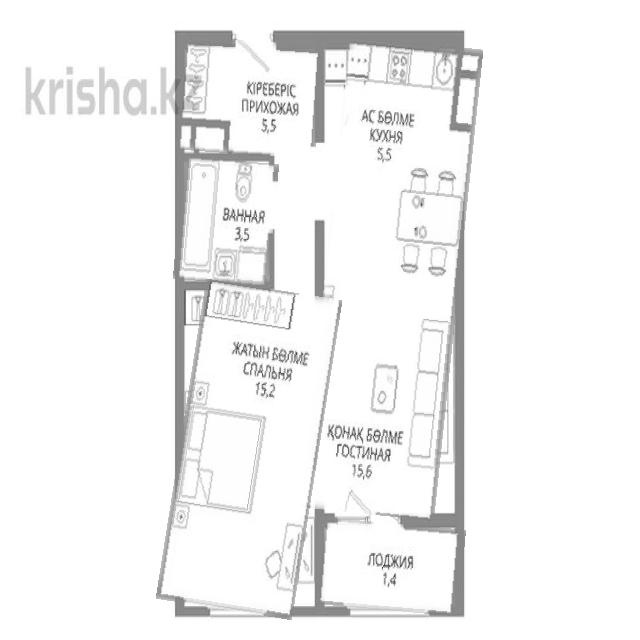balcony: (319, 520, 465, 613)
bathroom: (176, 158, 276, 285)
hallway: (178, 39, 322, 157)
living_room: (168, 284, 330, 616)
studio: (313, 39, 471, 519)
